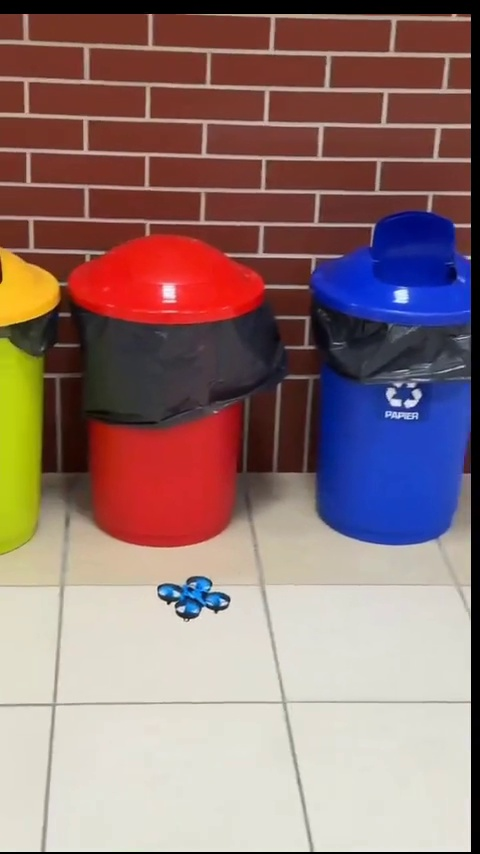drone: (157, 577, 230, 621)
